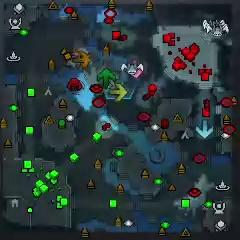x1: (127, 60, 144, 78)
x2: (110, 83, 127, 100)
x3: (196, 119, 213, 138)
x4: (97, 68, 117, 88)
x5: (73, 51, 91, 68)
